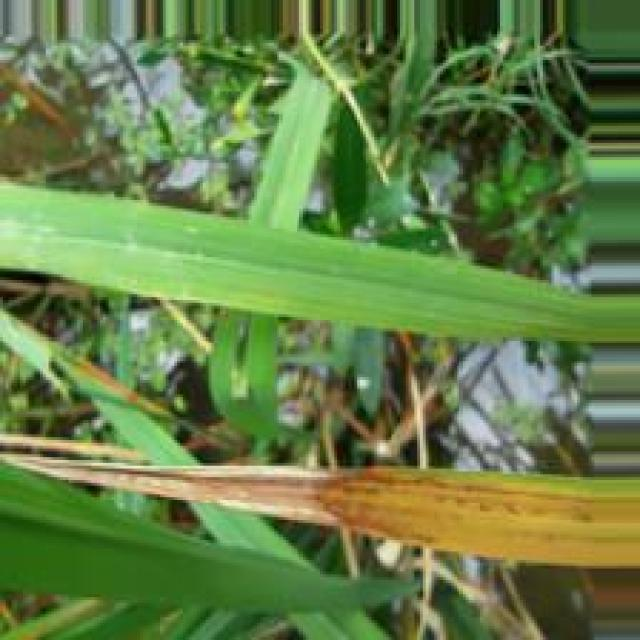Rice False Smut: (71, 464, 637, 568)
